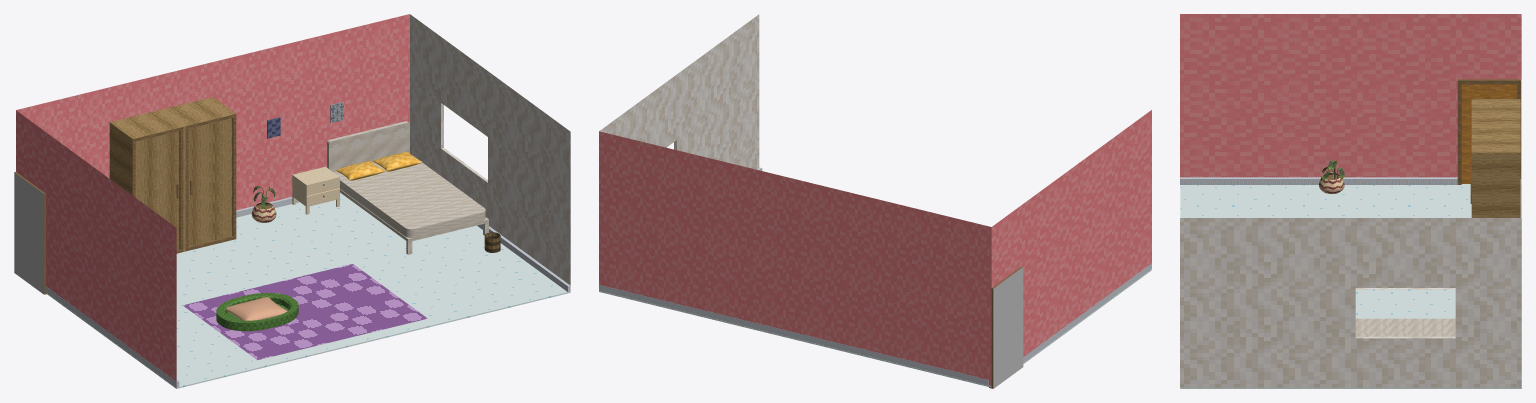
File: Quarto.fbx
The picture shows the model from 3 angles, left to right: view 1: azimuth 30°, elevation 25°; view 2: azimuth 150°, elevation 25°; view 3: azimuth 270°, elevation 25°; orthographic projection. The views are drawn at different scales.
Visible parts, largest first — view 1: paredes, chão, guarda roupa, Box025, colchão, cabeça cama, porta, Box029, Box027, bide, Box031, Box026; view 2: paredes, porta, Box029, chão; view 3: paredes, chão, guarda roupa, porta, Box029, colchão, Teapot002.
Boxes of the visible parts, x1,y1,x2,y2 form: paredes: [16, 14, 570, 381]; chão: [46, 192, 570, 388]; guarda roupa: [109, 97, 236, 253]; Box025: [183, 264, 427, 360]; colchão: [334, 155, 485, 237]; cabeça cama: [327, 121, 488, 254]; porta: [14, 172, 46, 294]; Box029: [46, 197, 570, 387]; Box027: [216, 293, 298, 331]; bide: [292, 166, 339, 214]; Box031: [336, 152, 421, 180]; Box026: [226, 297, 287, 320]; paredes: [599, 14, 1151, 386]; porta: [989, 266, 1023, 388]; Box029: [599, 167, 1151, 385]; chão: [599, 269, 1151, 387]; paredes: [1180, 14, 1521, 387]; chão: [1180, 184, 1521, 388]; guarda roupa: [1470, 99, 1520, 217]; porta: [1457, 79, 1521, 184]; Box029: [1180, 177, 1521, 387]; colchão: [1355, 318, 1455, 336]; Teapot002: [1319, 172, 1344, 193].
Bounding box in the file's own units: 358 × 139 × 250.
Materials: 36 (21 with a texture image).
